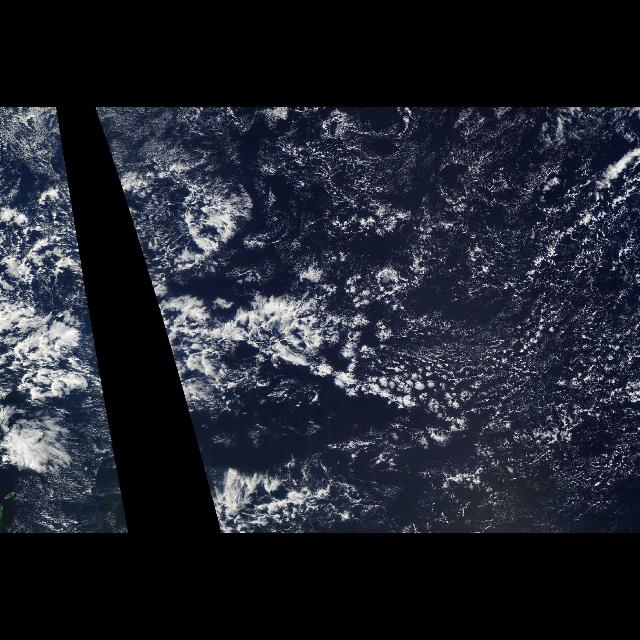Gravel: (264, 107, 640, 471)
